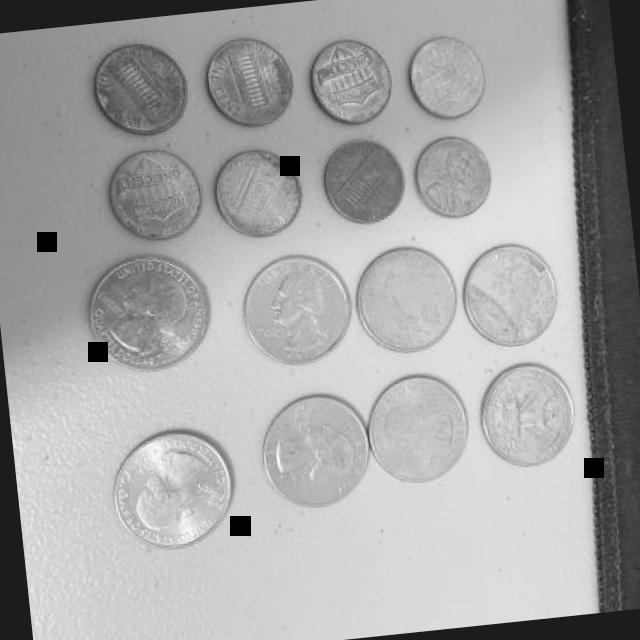Penny: (104, 140, 210, 244), (90, 33, 192, 140), (207, 142, 306, 240), (316, 132, 412, 228), (204, 30, 300, 126), (301, 30, 396, 127), (402, 30, 492, 124), (412, 128, 499, 220)
Quarter: (104, 424, 239, 554), (84, 249, 216, 373), (258, 389, 375, 511), (238, 249, 356, 368), (348, 240, 464, 356), (362, 368, 474, 486), (479, 356, 584, 474), (458, 238, 564, 350)
